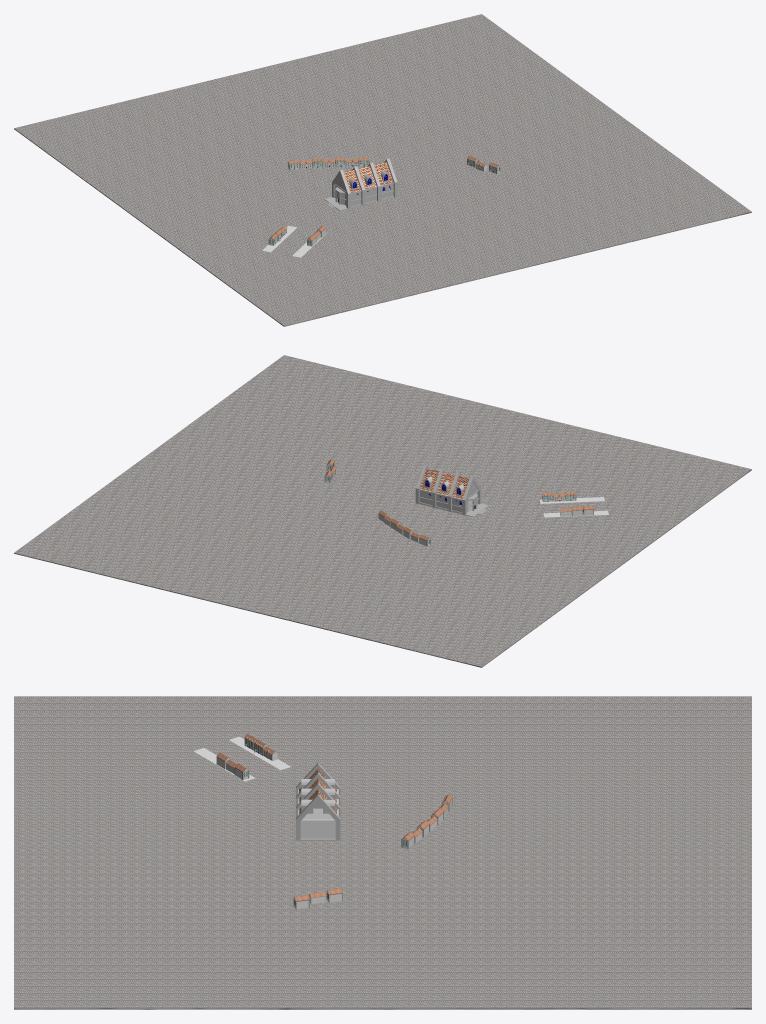
Rendered from townVer4.fbx.
3 renders of one model, top to bottom at view 1: azimuth 30°, elevation 25°; view 2: azimuth 150°, elevation 25°; view 3: azimuth 270°, elevation 25°, orthographic. The views are drawn at different scales.
Visible parts, largest first — view 1: Ground, KyoukaiYane; view 2: Ground, KyoukaiYane; view 3: Ground, kyoukaiKabe.003, hashira.009.
Part boxes in pixels (x1,y1,x2,y2): Ground: (14, 14, 751, 326); KyoukaiYane: (344, 162, 393, 192); Ground: (14, 355, 751, 667); KyoukaiYane: (420, 468, 469, 498); Ground: (14, 696, 751, 1009); kyoukaiKabe.003: (300, 819, 335, 838); hashira.009: (296, 793, 340, 840).
Size of the model in its own units: 57254 by 4005 by 57254.
